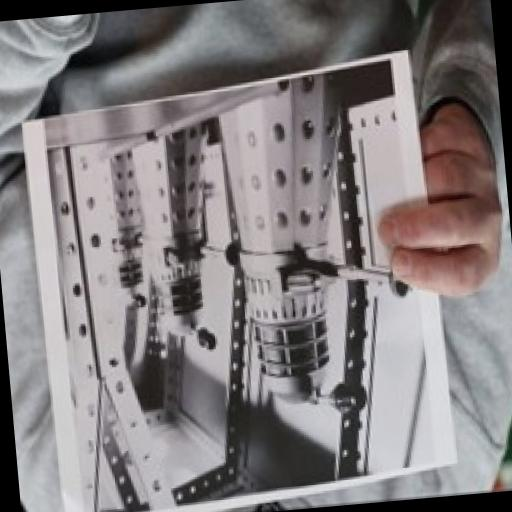dalek: (212, 66, 432, 420), (130, 118, 246, 362), (98, 148, 156, 310)
